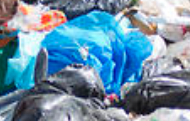garbage: (1, 3, 190, 120)
